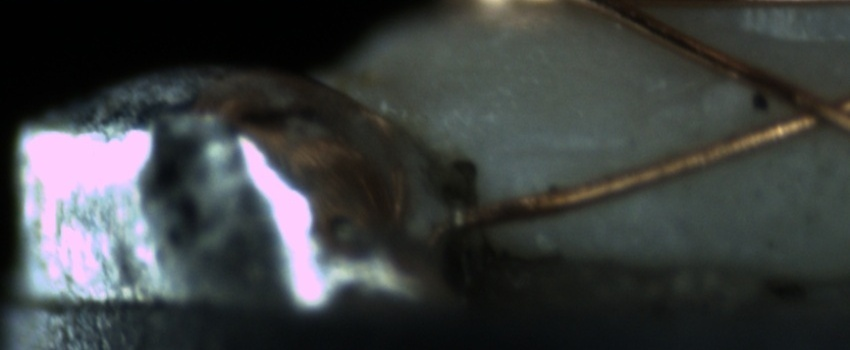CL: (756, 74, 848, 145)
DL: (507, 121, 639, 179)
